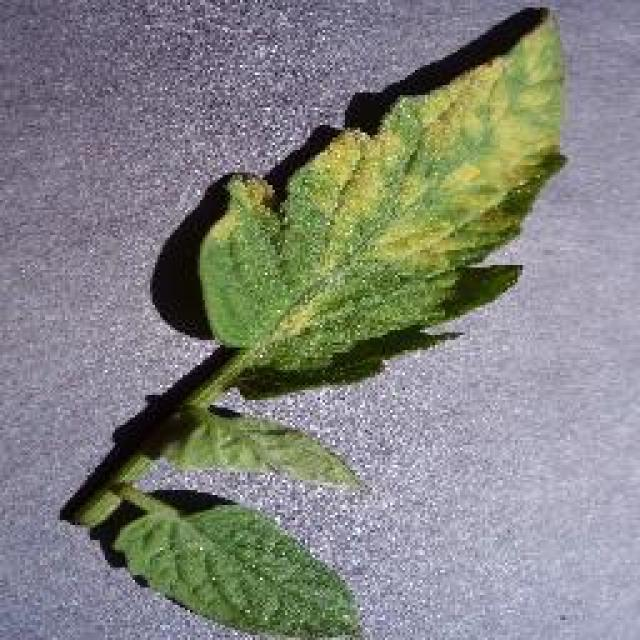Tomato healthy leaf: (110, 496, 365, 640)
Tomato mold leaf: (200, 4, 572, 404)
